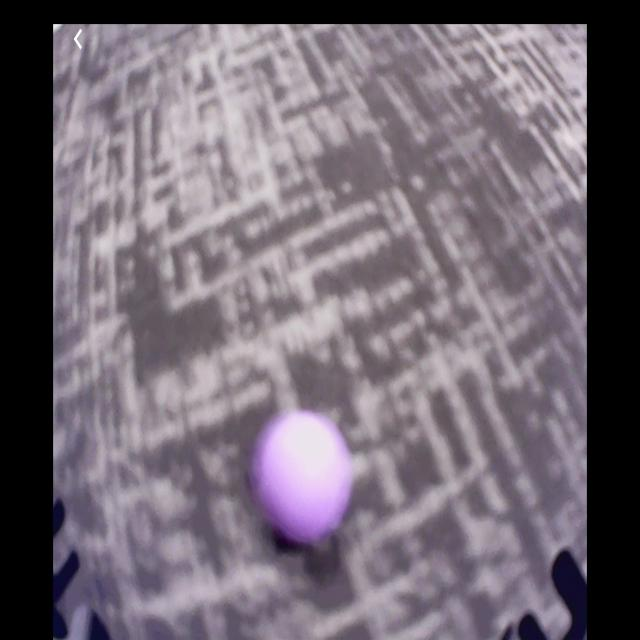ball: (254, 410, 352, 544)
